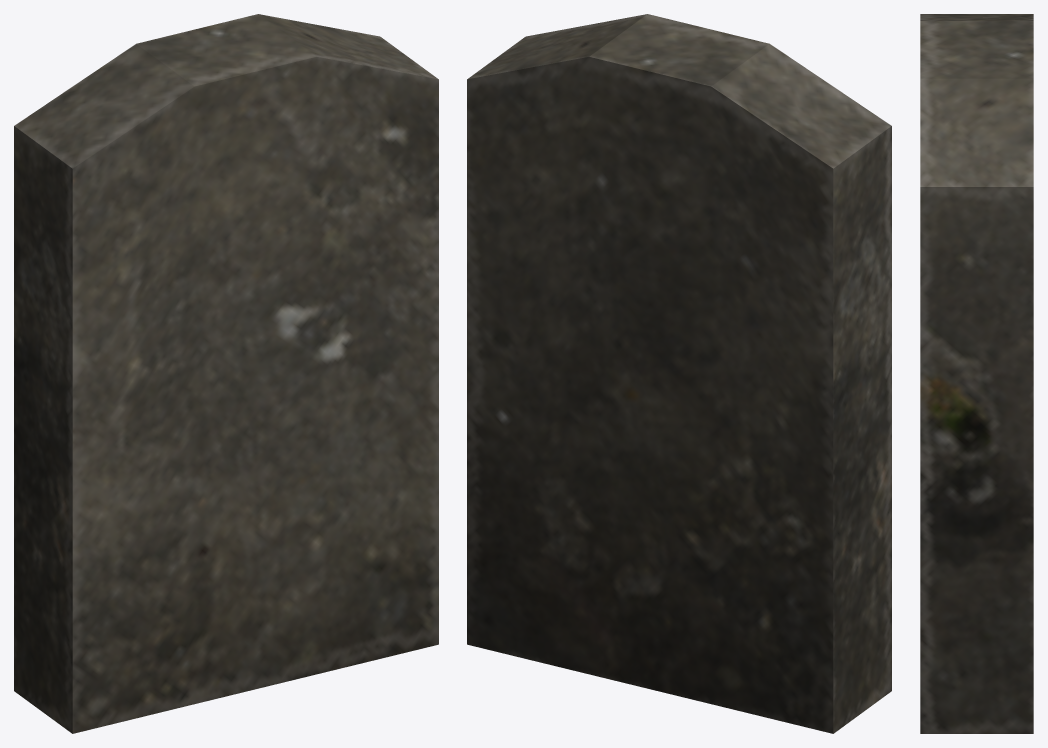
The model's file is Headstone_1.fbx.
3 renders of one model, left to right at view 1: azimuth 30°, elevation 25°; view 2: azimuth 150°, elevation 25°; view 3: azimuth 270°, elevation 25°, orthographic. The views are drawn at different scales.
Visible parts, largest first — view 1: Headstone_1; view 2: Headstone_1; view 3: Headstone_1.
Boxes of the visible parts, x1,y1,x2,y2 form: Headstone_1: [14, 14, 438, 733]; Headstone_1: [467, 14, 891, 733]; Headstone_1: [920, 14, 1033, 733].
Bounding box in the file's own units: 43.51 × 70.11 × 12.03.
